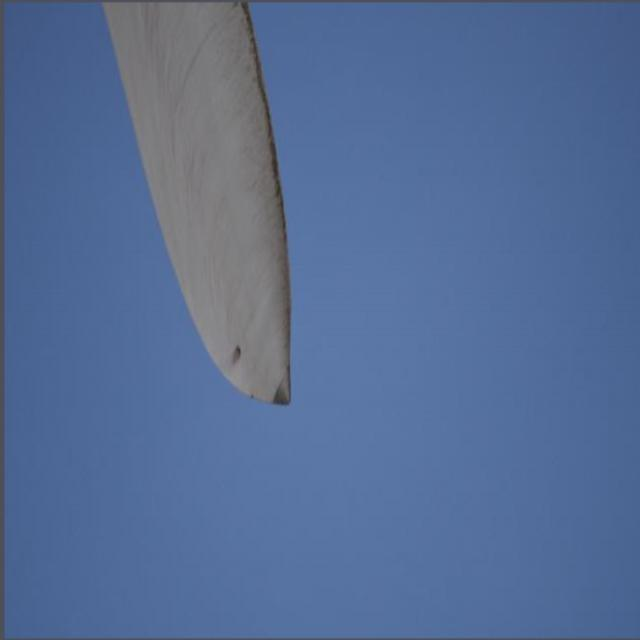Burn Mark: (233, 344, 241, 361)
EROSION: (231, 0, 316, 258)
